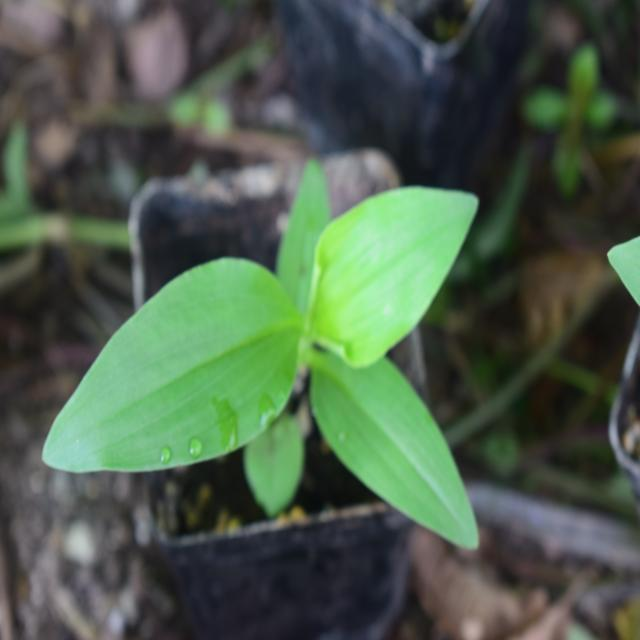Common Dayflower: (80, 168, 492, 562)
